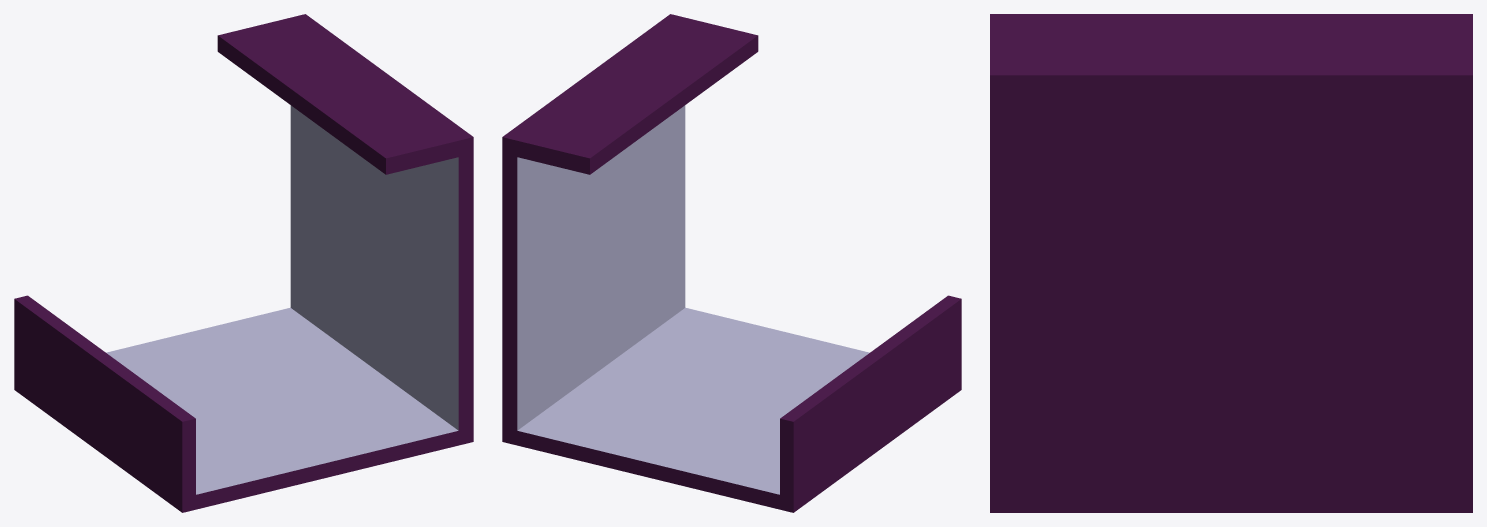
Rendered from CubicleBase.fbx.
The picture shows the model from 3 angles, left to right: view 1: azimuth 30°, elevation 25°; view 2: azimuth 150°, elevation 25°; view 3: azimuth 270°, elevation 25°; orthographic projection. The views are drawn at different scales.
Visible parts, largest first — view 1: Cubicle; view 2: Cubicle; view 3: Cubicle.
Part boxes in pixels (x1=…): Cubicle: x1=14, y1=14, x2=473, y2=512; Cubicle: x1=502, y1=14, x2=961, y2=512; Cubicle: x1=990, y1=14, x2=1472, y2=512.
Size of the model in its own units: 99967 by 99967 by 99967.
1 material, 1 textured.
